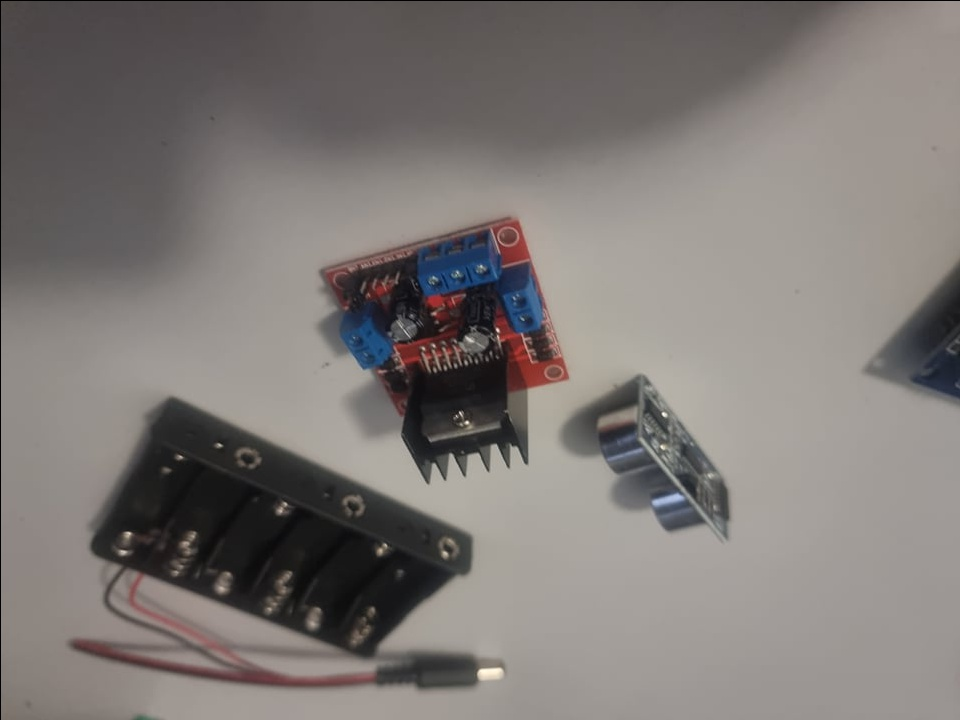BATTERY BOX: (88, 388, 471, 659)
MOTOR: (312, 212, 564, 483)
SENSOR: (594, 372, 732, 545)
